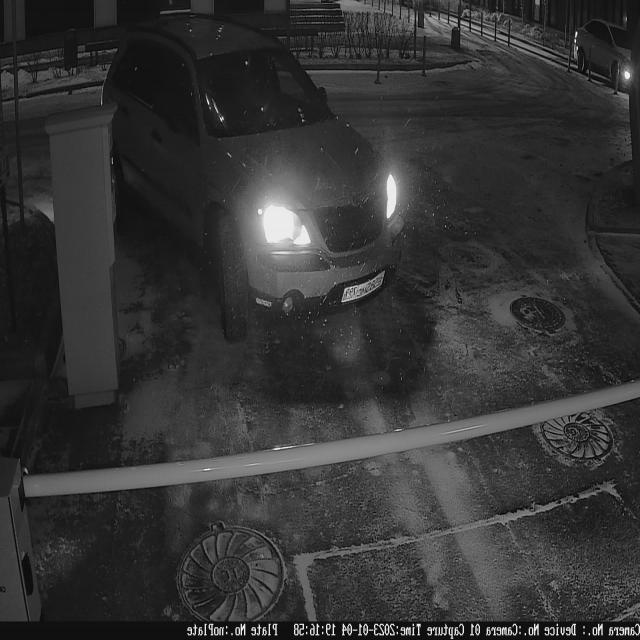car-plate-numbers: (341, 267, 387, 309)
